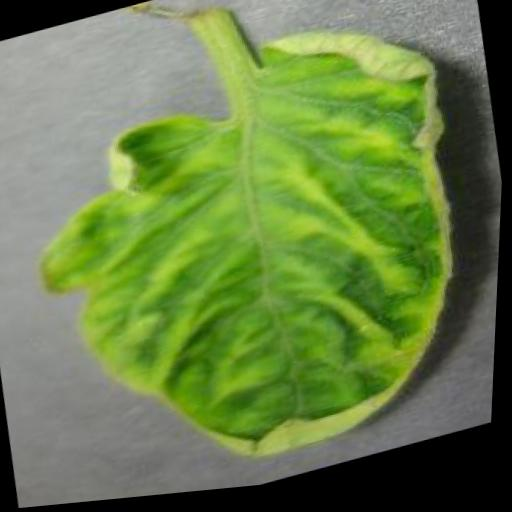Yellow Leaf Curl Virus: (8, 3, 500, 510)
